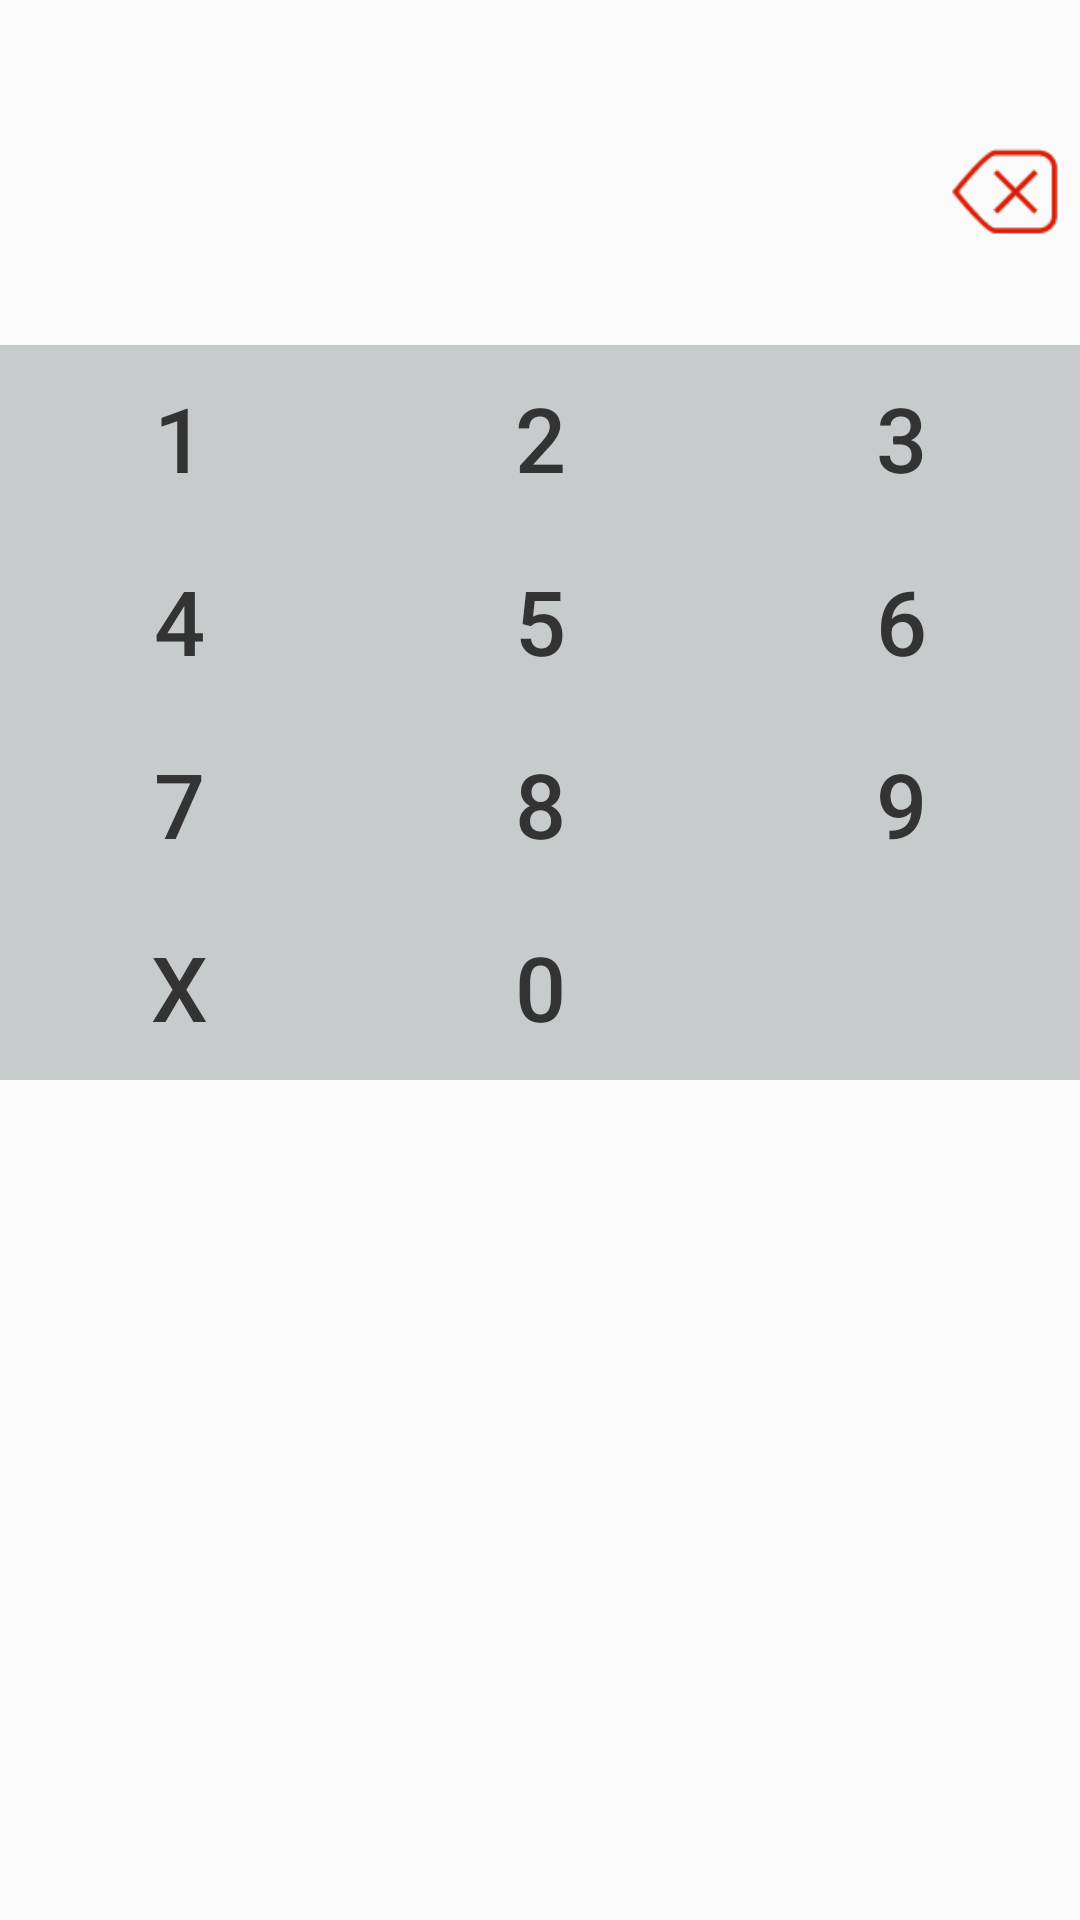

Locate icon controls on the screen. Image size 1080×1920, boxes as (x1, y1, x2, y2).
keyboard delete: (952, 149, 1058, 234)
